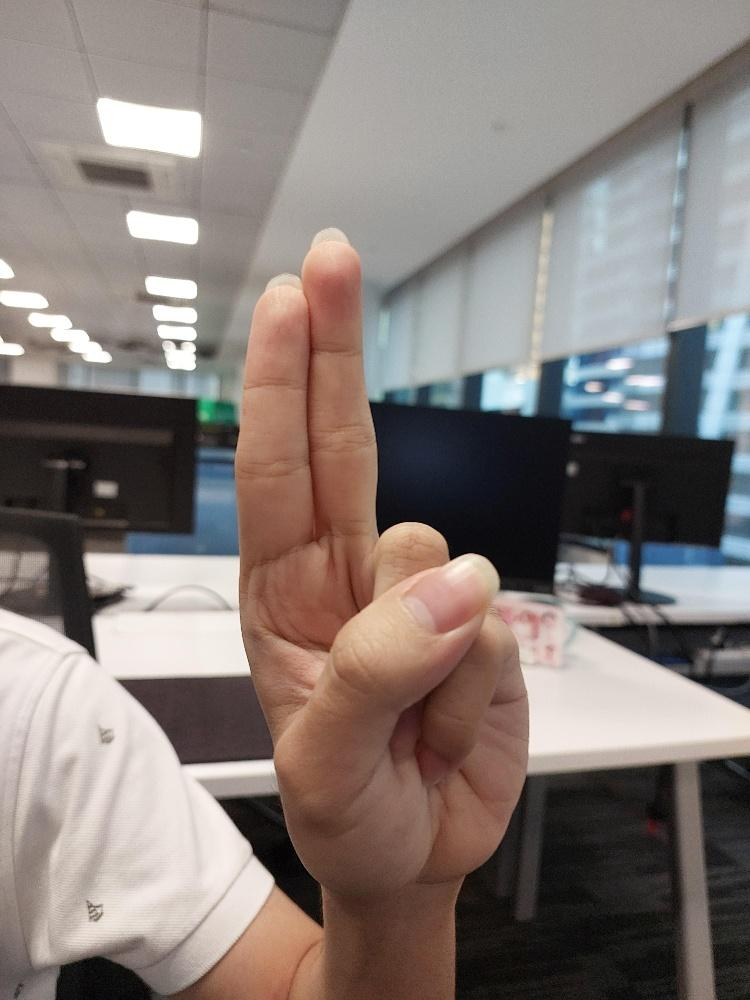u: (231, 224, 531, 894)
